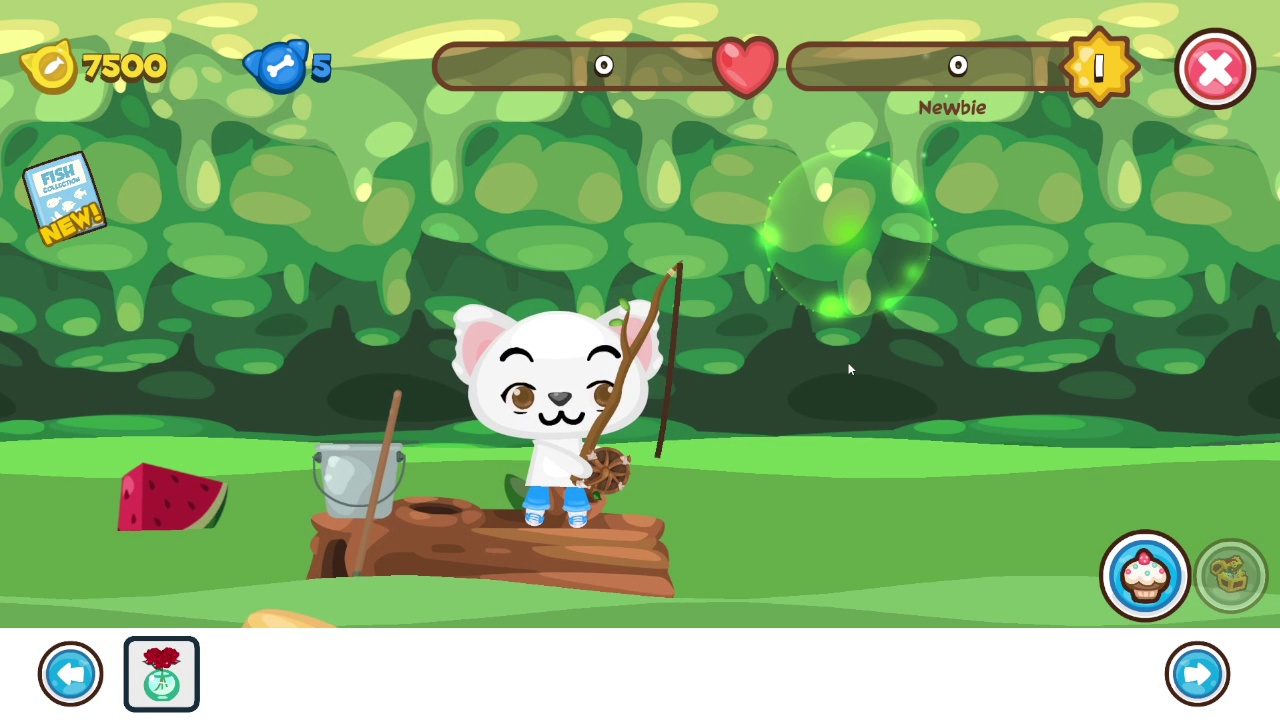point: (764, 153, 934, 319)
